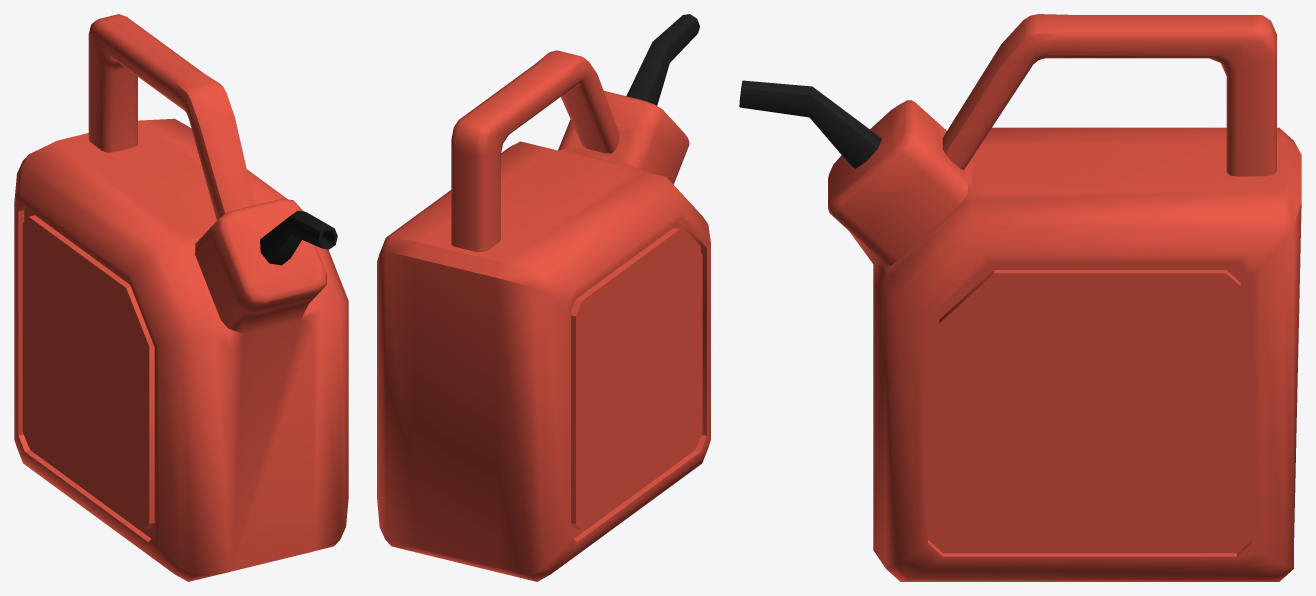
Rendered from GasCan.fbx.
The picture shows the model from 3 angles, left to right: view 1: azimuth 30°, elevation 25°; view 2: azimuth 150°, elevation 25°; view 3: azimuth 270°, elevation 25°; orthographic projection. The views are drawn at different scales.
Parts seen in each view (by area): view 1: Gas Can; view 2: Gas Can; view 3: Gas Can.
Boxes of the visible parts, box(x1,y1,x2,y2) form: Gas Can: box(14, 14, 348, 581); Gas Can: box(377, 14, 710, 581); Gas Can: box(739, 14, 1301, 581).
Size of the model in its own units: 129 by 281 by 276.
